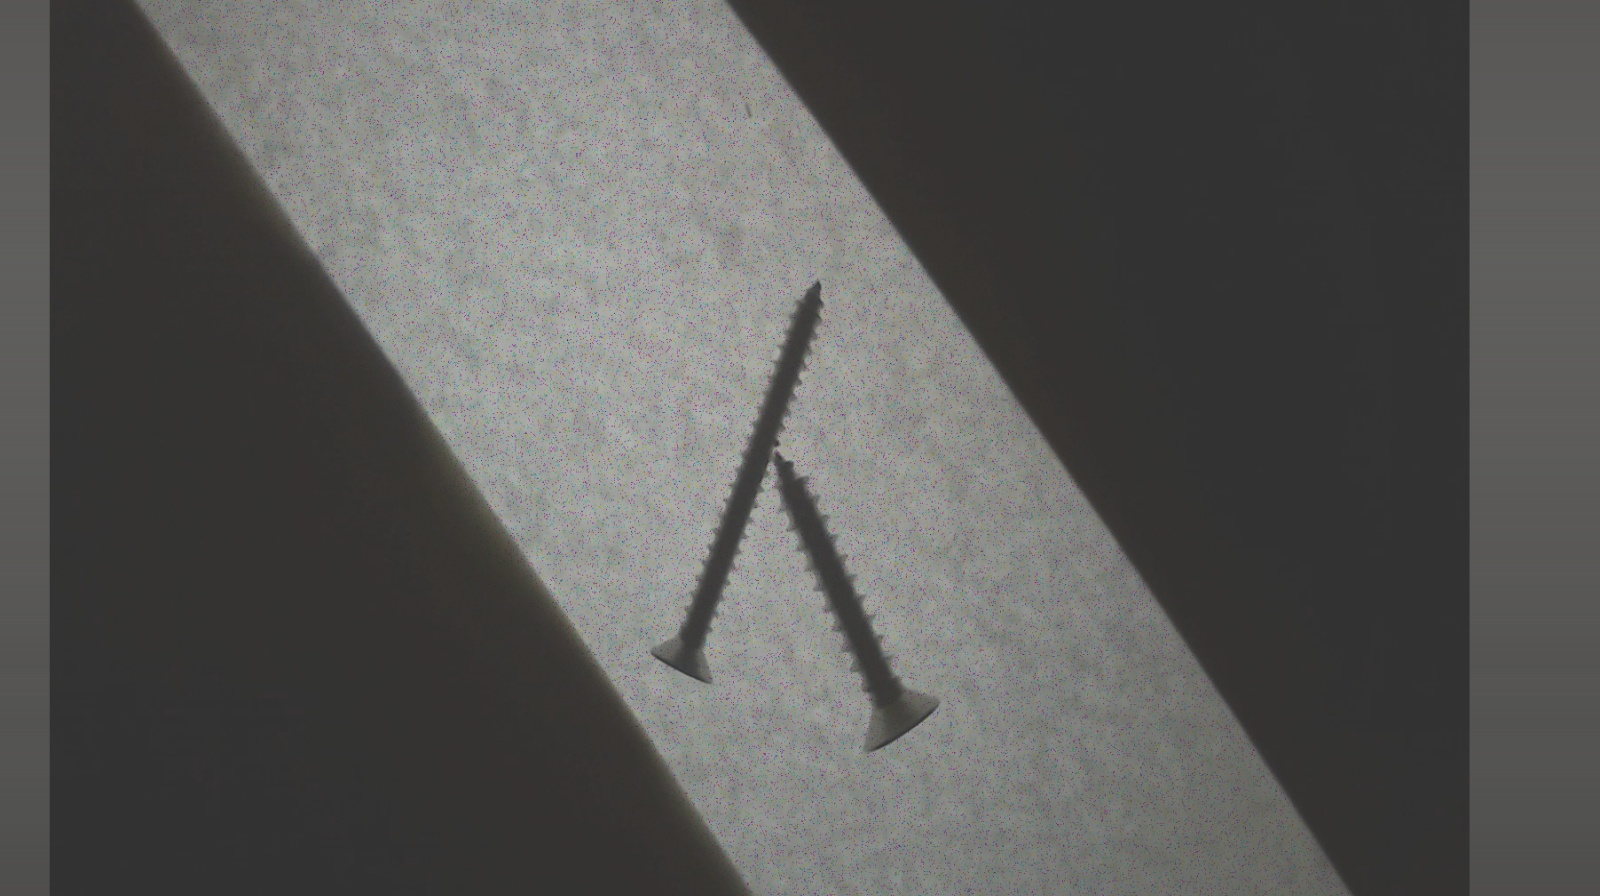S001: (773, 447, 940, 755)
S002: (653, 274, 823, 682)
